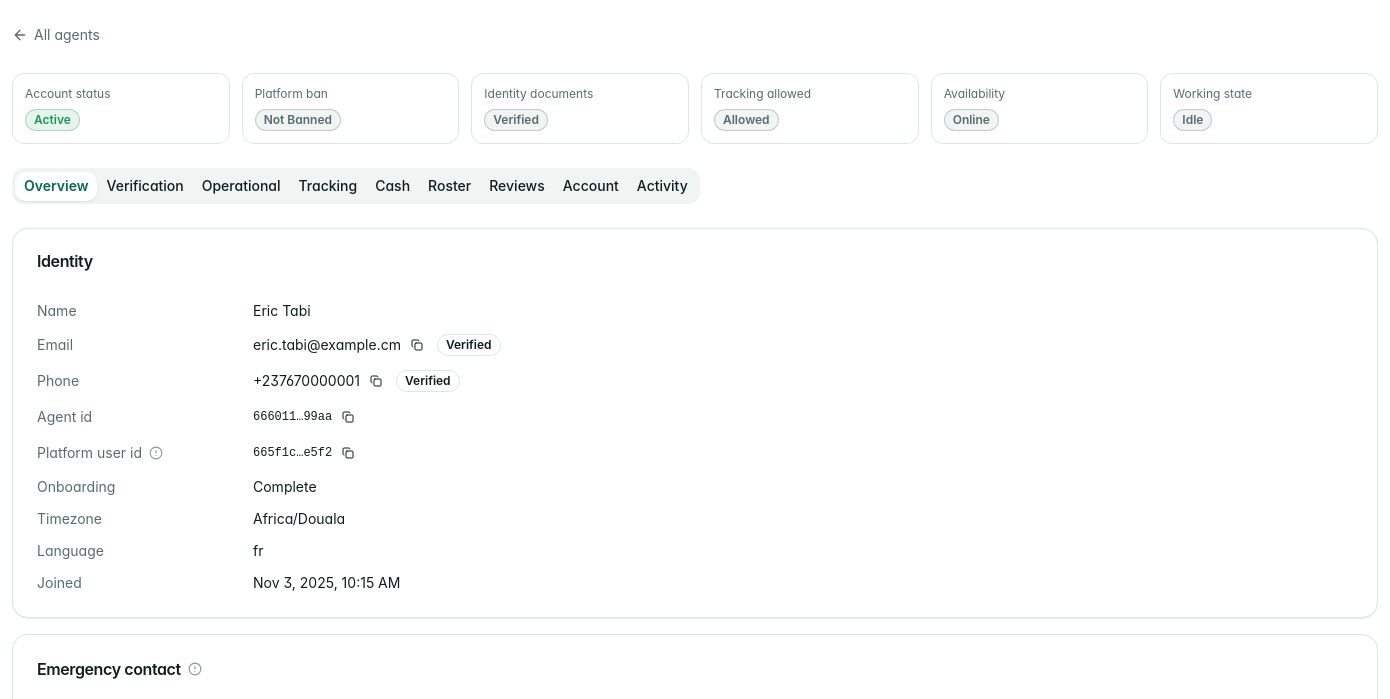
the last known position › says so when no position was ever reported, and offers no reveal
Click the tab "Tracking" at (328, 186), box left=290, top=172, right=366, bottom=200
(page scrolled)
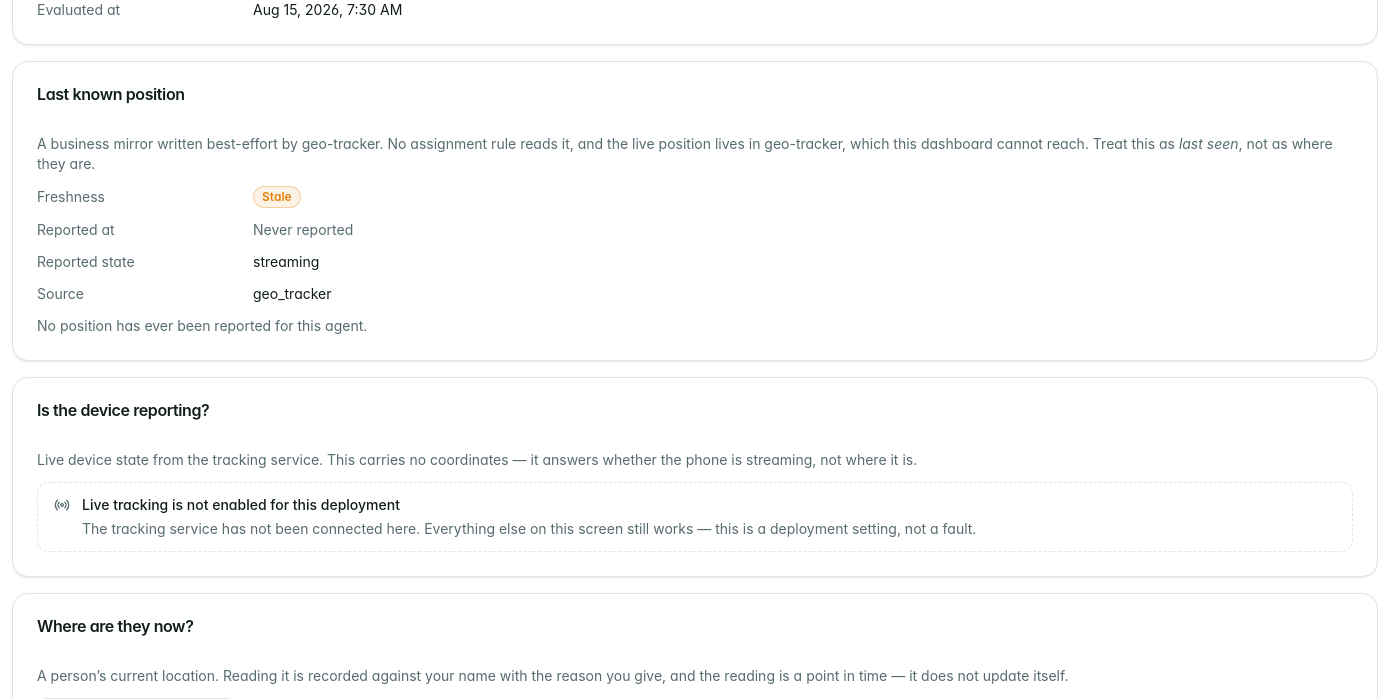
Result: the text "No position has ever been reported for this agent." is shown at left=37, top=317, right=367, bottom=334
